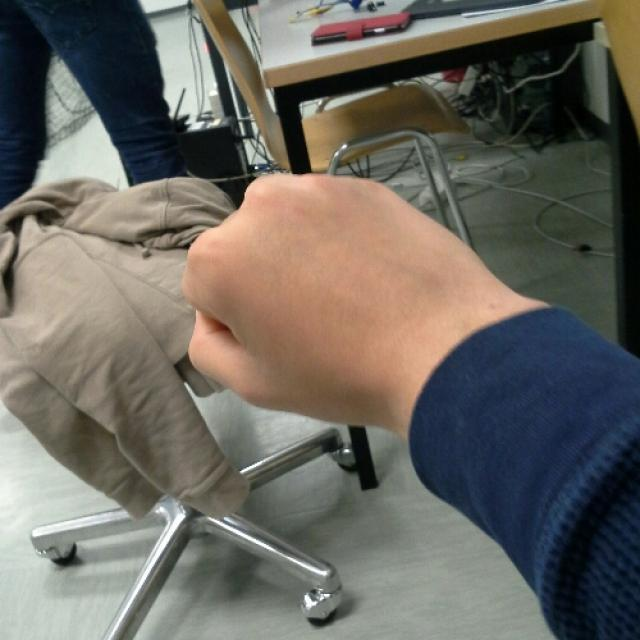rock: (184, 170, 452, 426)
